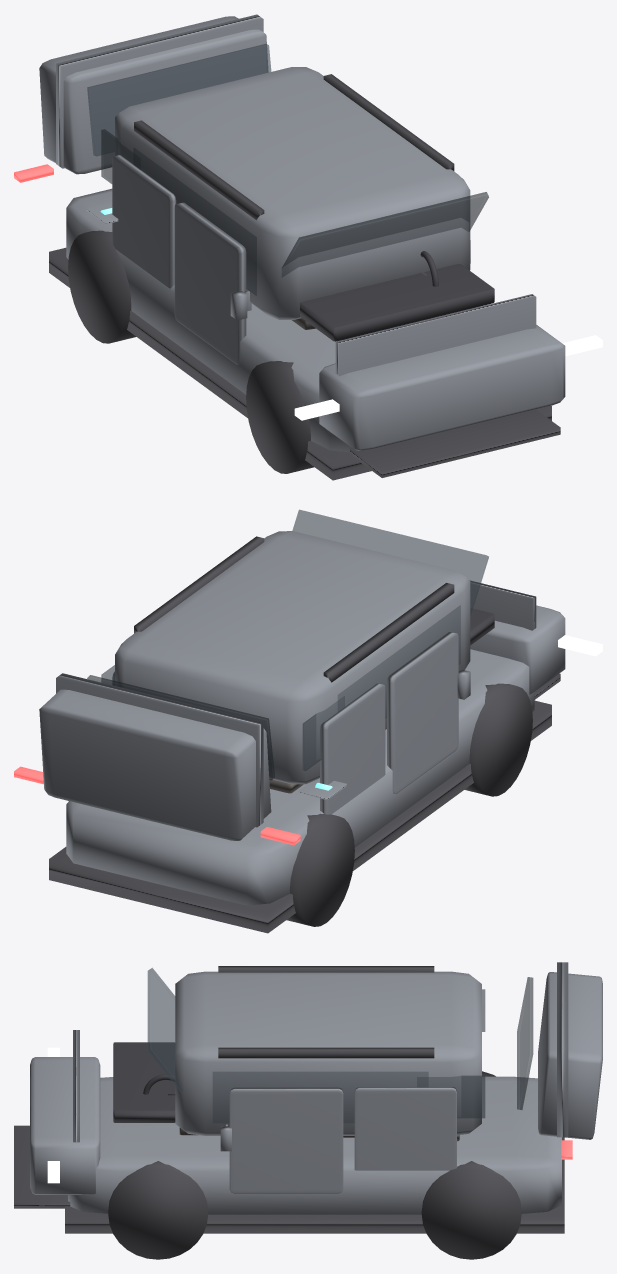
Rendered from suv.glb.
3 renders of one model, top to bottom at view 1: azimuth 30°, elevation 25°; view 2: azimuth 150°, elevation 25°; view 3: azimuth 270°, elevation 25°, orthographic. The views are drawn at different scales.
Visible parts, largest first — view 1: cab, nose, hatch, base, door_fl, dash, frunk, rear_window, door_rl, skid, windshield, wheel_rl (+8 smaller); view 2: cab, hatch, base, cladding, door_fl, door_rl, wheel_rl, wheel_fl, windshield, nose, trunk, window_glass (+7 smaller); view 3: cab, base, door_fr, nose, door_rr, hatch, wheel_fr, wheel_rr, cladding, dash, window_glass.001, windshield (+7 smaller).
Boxes of the visible parts, <box> form: cab: <box>115,67,470,319</box>; nose: <box>319,325,565,450</box>; hatch: <box>39,16,268,174</box>; base: <box>66,188,480,452</box>; door_fl: <box>174,202,246,364</box>; dash: <box>300,264,494,341</box>; frunk: <box>335,294,536,376</box>; rear_window: <box>87,44,271,156</box>; door_rl: <box>112,155,176,288</box>; skid: <box>350,409,560,477</box>; windshield: <box>282,192,488,277</box>; wheel_rl: <box>68,230,135,343</box>; cab: <box>115,531,470,784</box>; hatch: <box>39,689,271,840</box>; base: <box>66,649,534,905</box>; cladding: <box>49,700,551,933</box>; door_fl: <box>387,632,458,793</box>; door_rl: <box>320,683,385,814</box>; wheel_rl: <box>286,813,354,926</box>; wheel_fl: <box>464,683,532,796</box>; windshield: <box>292,509,488,616</box>; nose: <box>470,605,565,694</box>; trunk: <box>56,673,263,827</box>; window_glass: <box>338,605,460,718</box>; cab: <box>175,971,481,1135</box>; base: <box>68,1076,561,1214</box>; door_fr: <box>229,1087,343,1193</box>; nose: <box>30,1057,100,1194</box>; door_rr: <box>354,1087,456,1170</box>; hatch: <box>538,972,602,1139</box>; wheel_fr: <box>108,1161,208,1259</box>; wheel_rr: <box>421,1161,521,1259</box>; cladding: <box>65,1137,564,1233</box>; dash: <box>113,1042,175,1122</box>; window_glass.001: <box>213,1072,428,1122</box>; windshield: <box>147,968,182,1094</box>.
Bounding box in the file's own units: 2.7 × 1.99 × 5.19.
